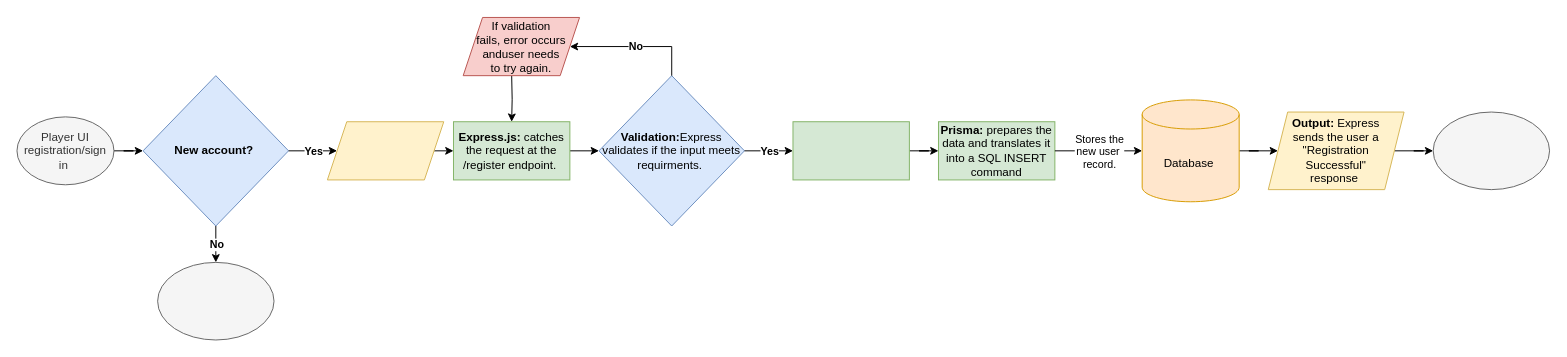
Some shapes in this 1567 by 357 pixel diagram are drawn without their labels. The box of each missing label's shape, as (x1, y1, x2, y2) in pixels:
Bcrypt: hashes the plain text password into a secure string: (792, 121, 909, 180)
End: Player account is created: (1432, 111, 1550, 190)
Input: Player submits a Username and Password: (326, 121, 444, 180)
Player follows the Login process: (157, 261, 274, 340)
